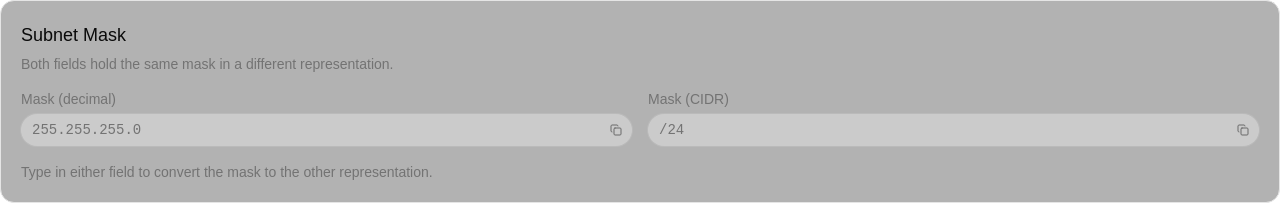
Test: MaskSection › converts a typed CIDR prefix into its dotted decimal mask
Type "/16" into the field labelled "Mask (CIDR)" at (940, 130), box x1=649 y1=114 x2=1231 y2=146
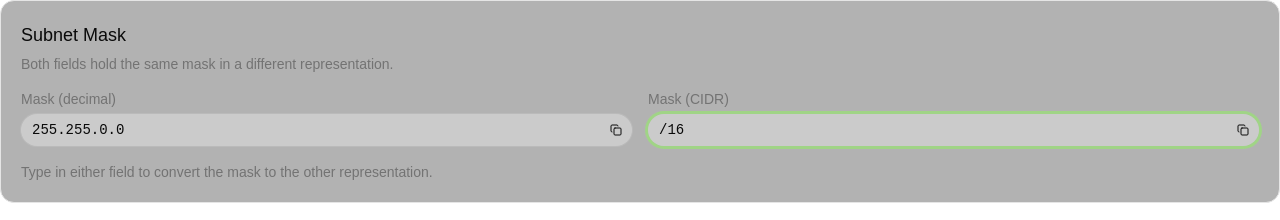
Result: the field labelled "Mask (decimal)" holds "255.255.0.0" at x1=22 y1=114 x2=604 y2=146
